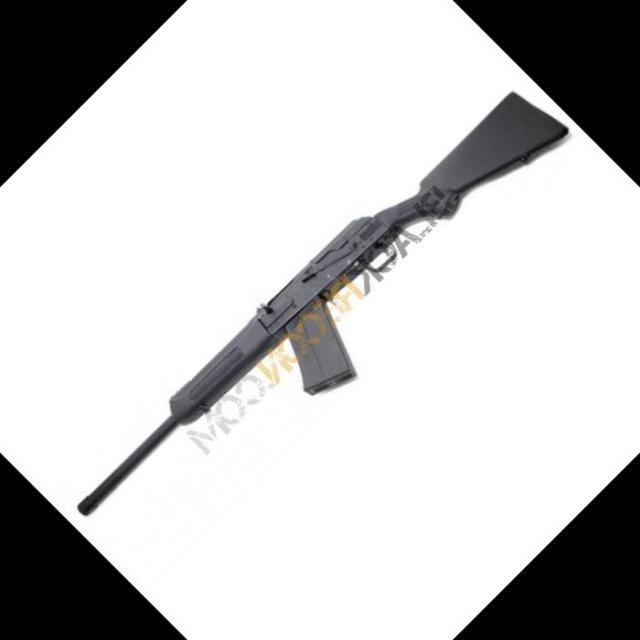weapon: (78, 91, 570, 516)
